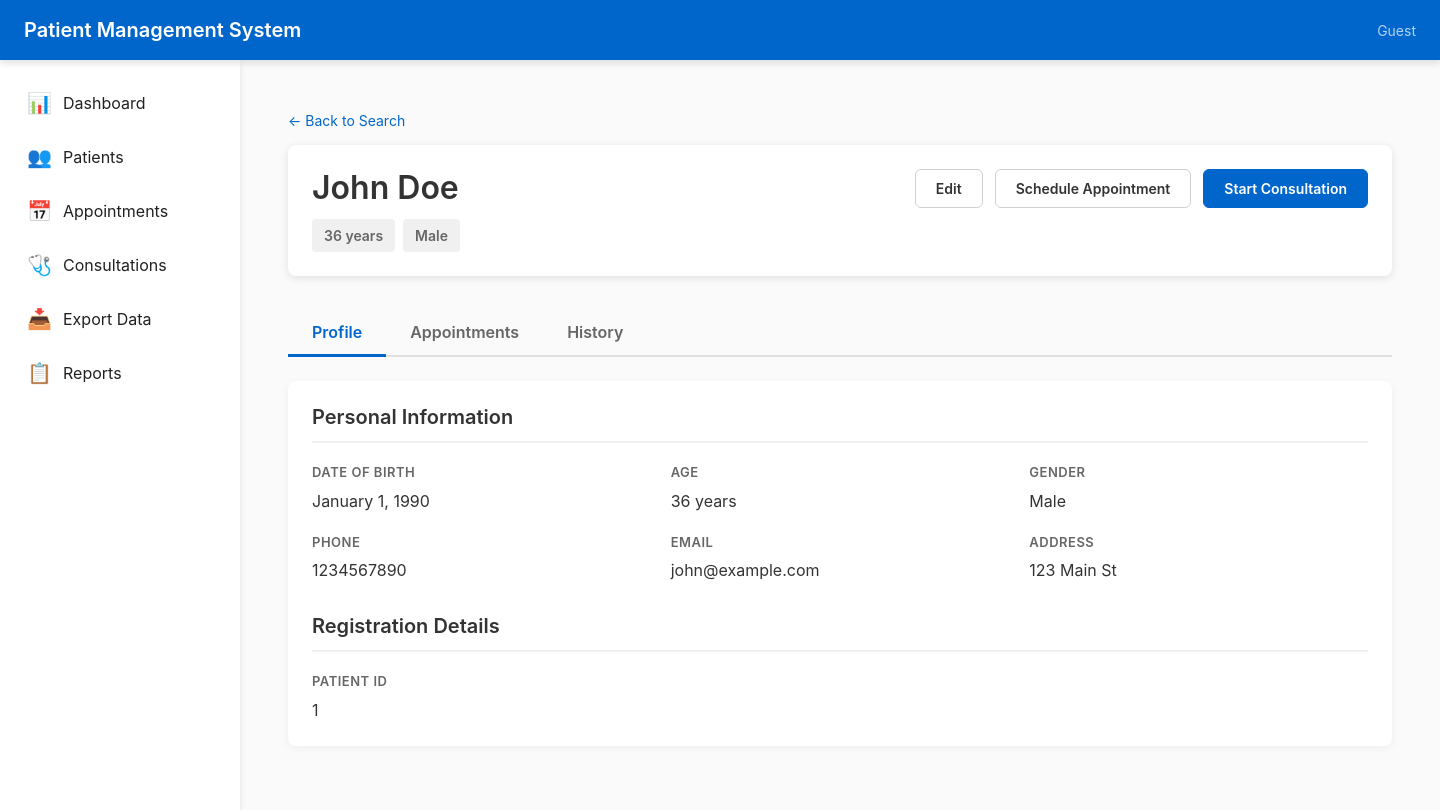
PatientProfilePage › should show edit form when edit clicked
The width and height of the screenshot is (1440, 810).
Click the button "Edit": point(949, 188) [915, 169, 983, 208]
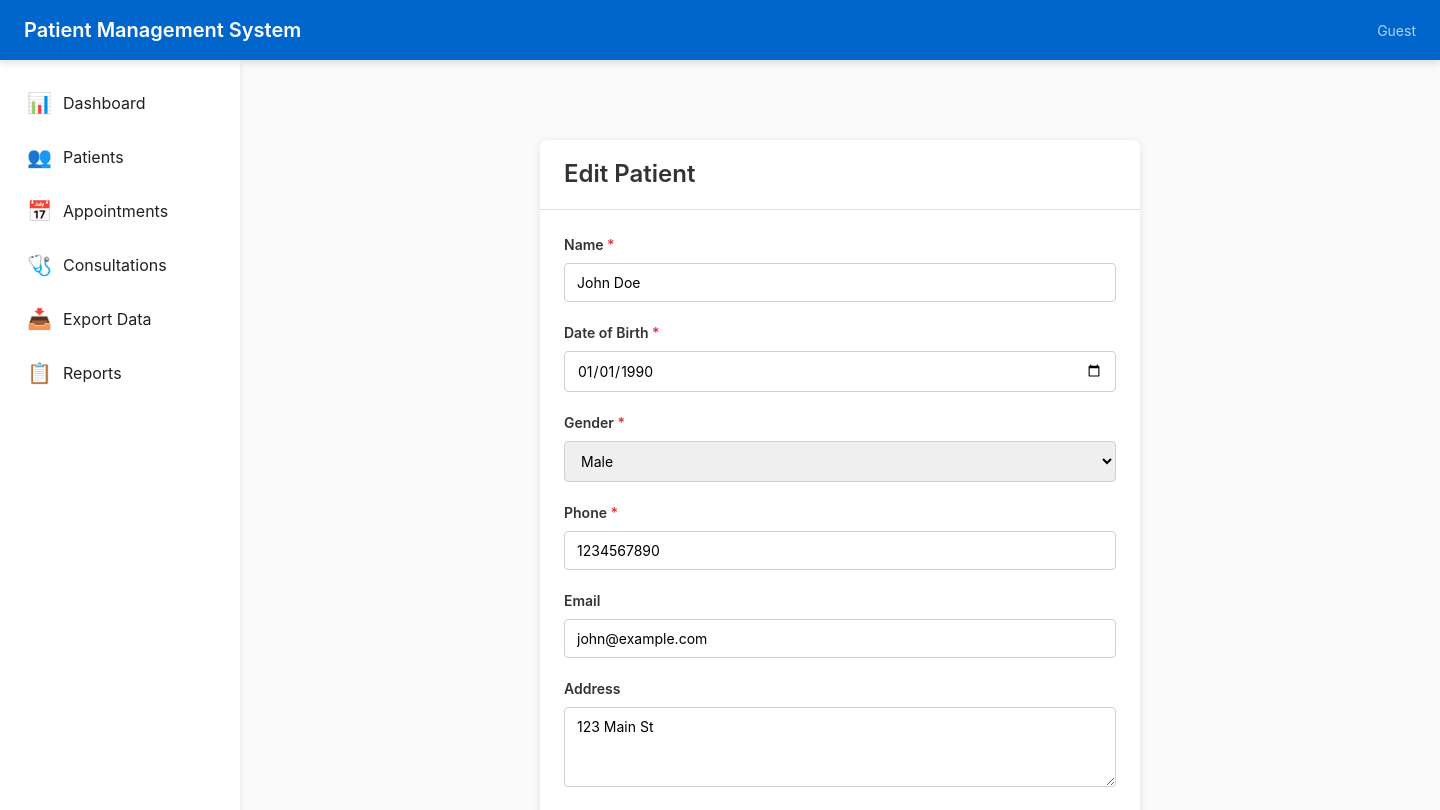
Check: the field labelled "Name *" is shown, box [564, 263, 1116, 302]
